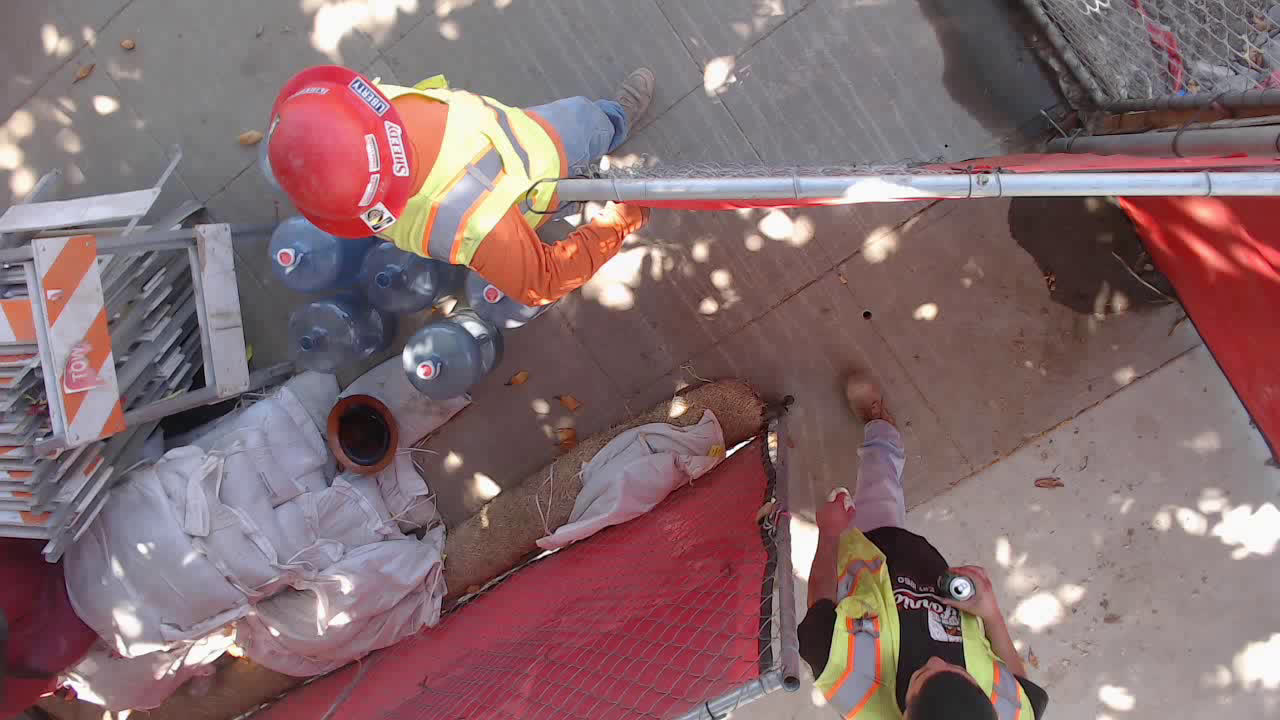hardhat: (265, 66, 418, 238)
safetyvest: (828, 524, 1040, 718), (370, 75, 561, 271)
